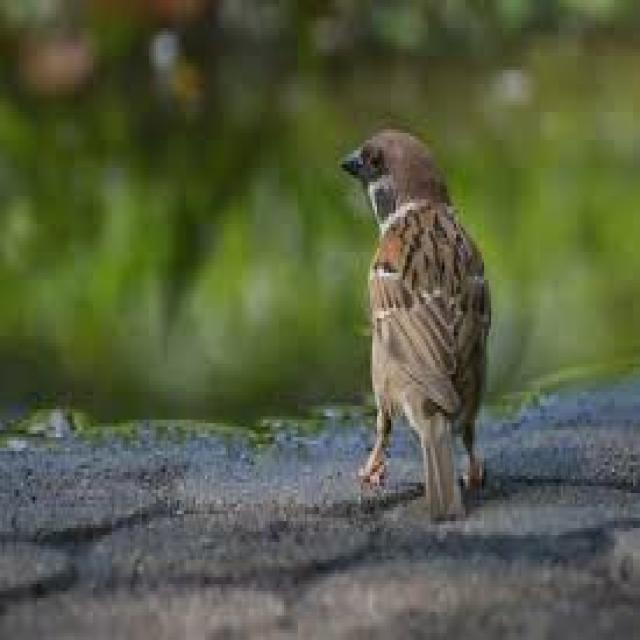bird: (352, 105, 512, 517)
